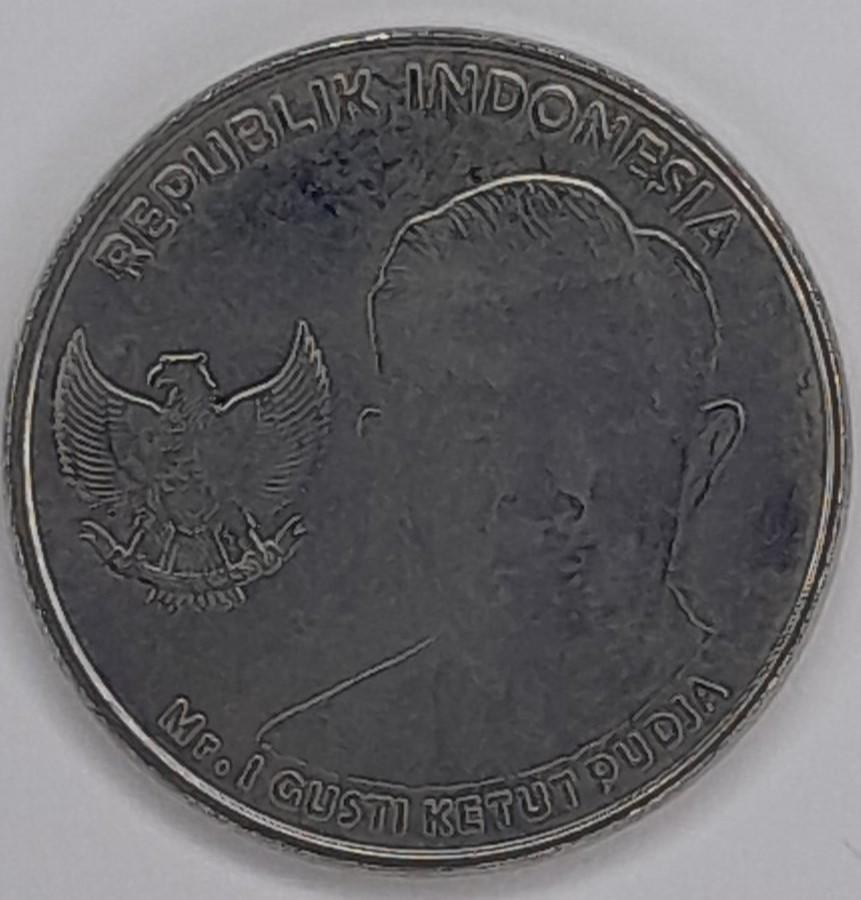coin_1000_e2016: (15, 18, 850, 900)
